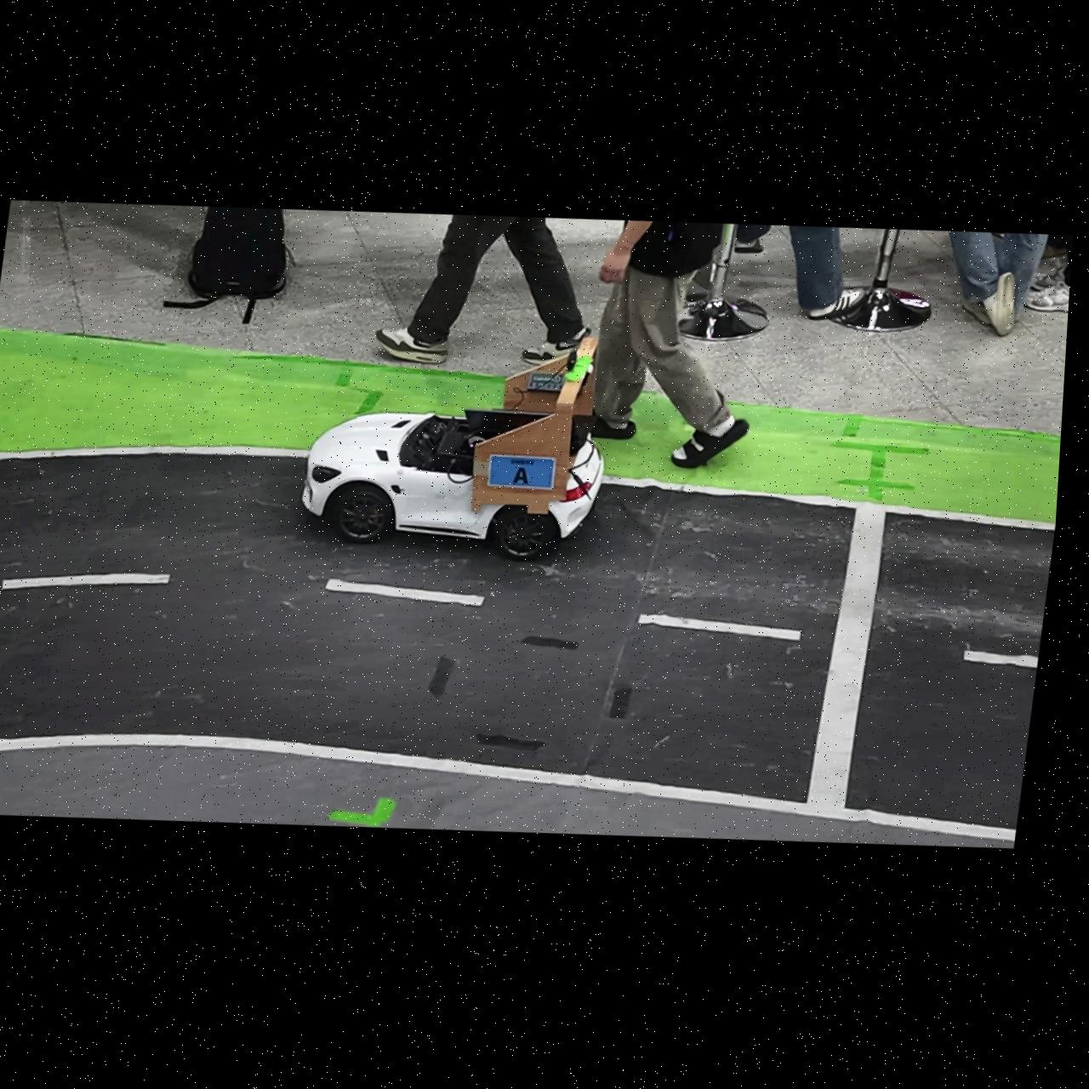broken_line: (325, 578, 486, 605), (639, 614, 802, 640), (3, 573, 171, 589), (964, 649, 1038, 668)
